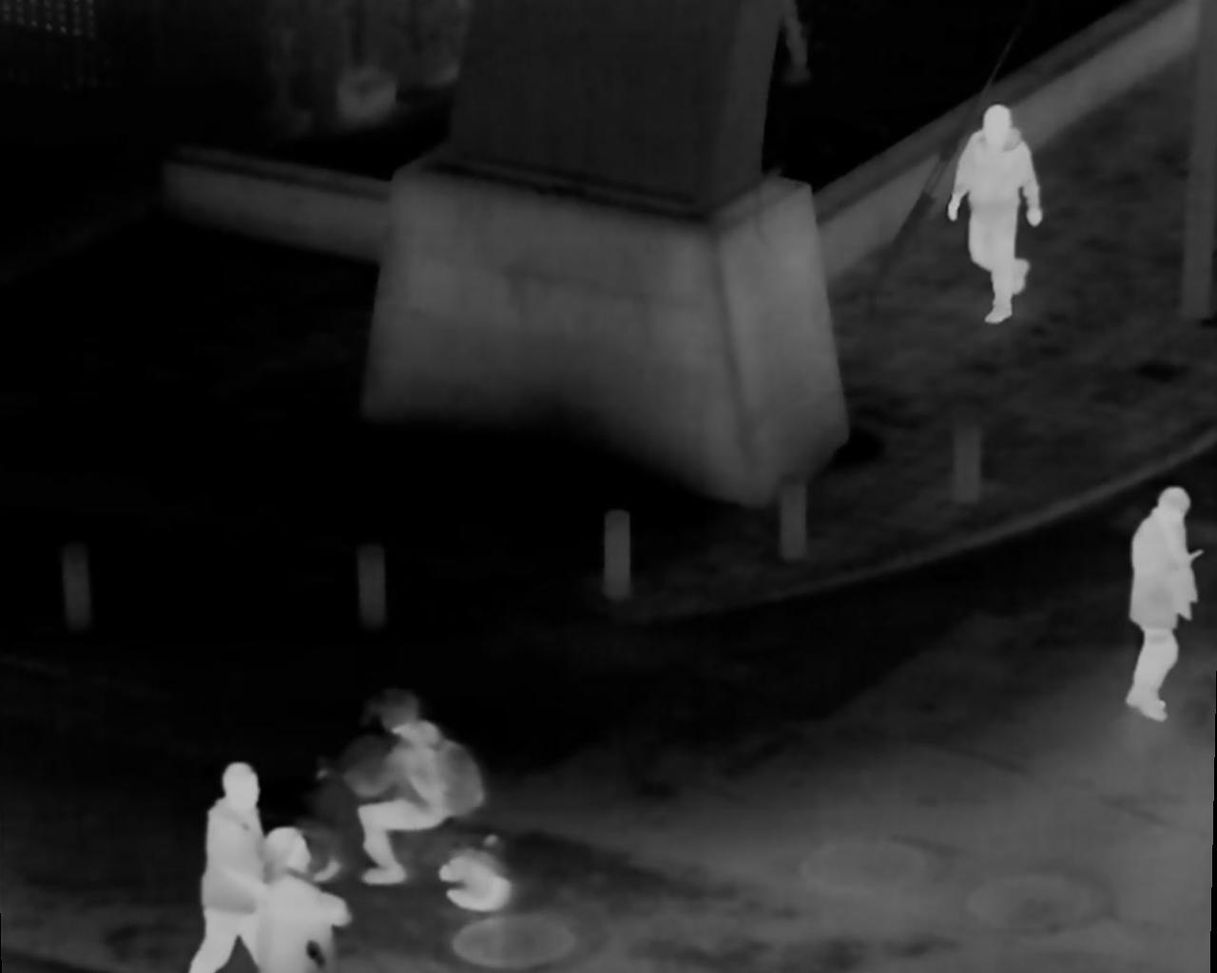person: (937, 105, 1058, 312), (1099, 481, 1200, 714), (358, 688, 465, 891), (190, 763, 260, 968), (255, 824, 337, 971)
